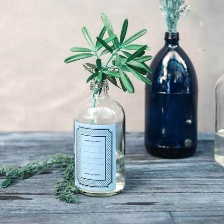bottle: (142, 29, 203, 161), (71, 75, 130, 200), (210, 66, 224, 171)
